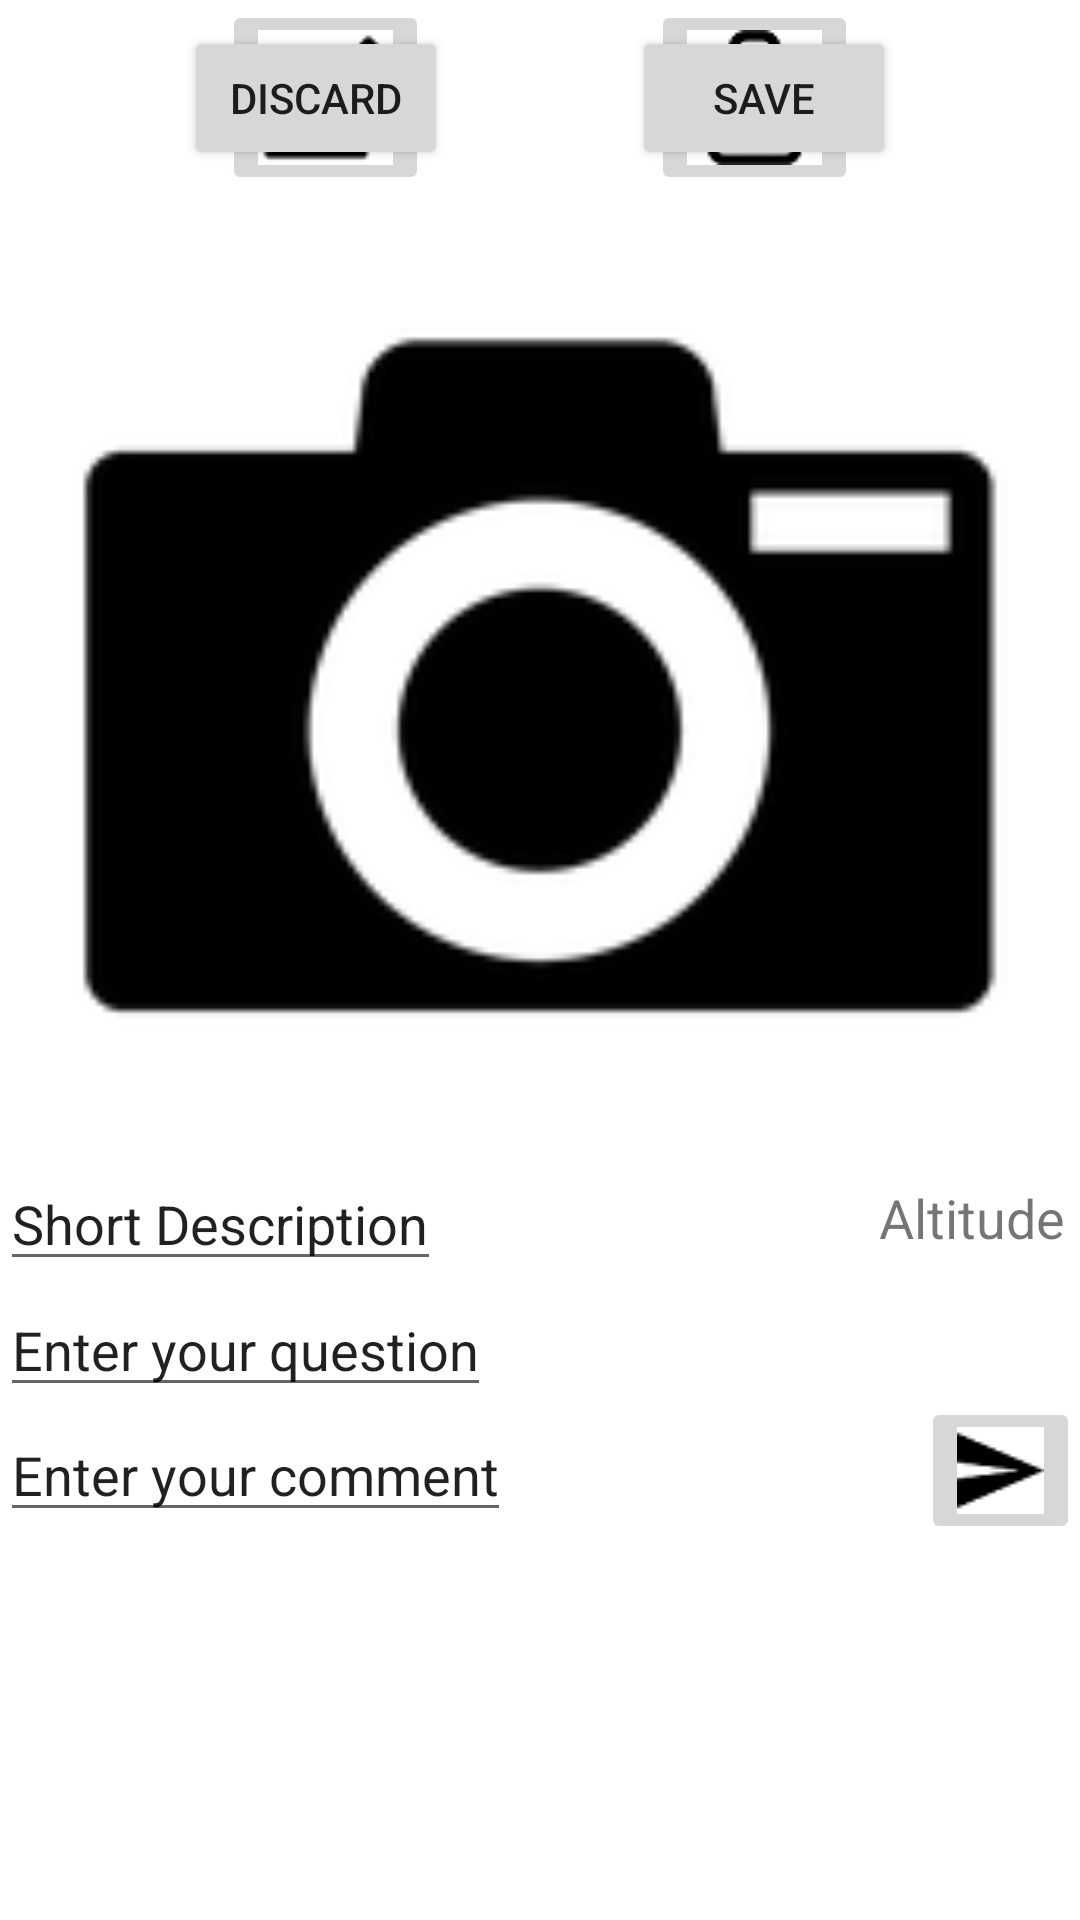

Locate icon controls on the screen. Image size 1080px x 1920px, boxes as (x1, y1, x2, y2).
send: (933, 1415, 1068, 1526)
